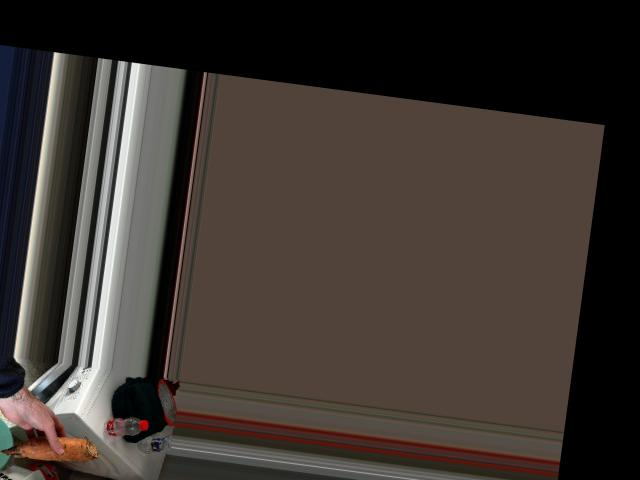sweet_potato: (6, 426, 104, 464)
